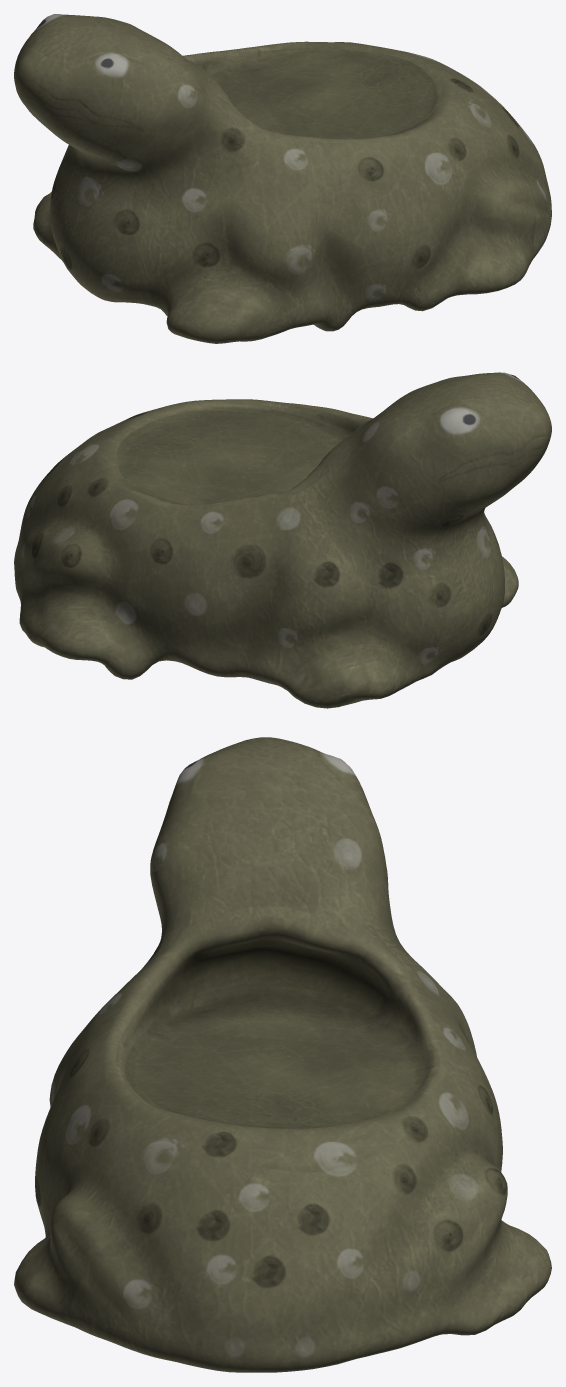
File: SM_ToadInkStone.fbx
3 views of the same model, one above another, from view 1: azimuth 30°, elevation 25°; view 2: azimuth 150°, elevation 25°; view 3: azimuth 270°, elevation 25° (orthographic). The views are drawn at different scales.
Visible parts, largest first — view 1: SM_ToadInkStone; view 2: SM_ToadInkStone; view 3: SM_ToadInkStone.
Boxes of the visible parts, <box> form: SM_ToadInkStone: <box>14,14,551,343</box>; SM_ToadInkStone: <box>14,372,551,708</box>; SM_ToadInkStone: <box>14,737,551,1372</box>.
Size of the model in its own units: 26.12 by 18.59 by 14.18.
1 material, 1 textured.
